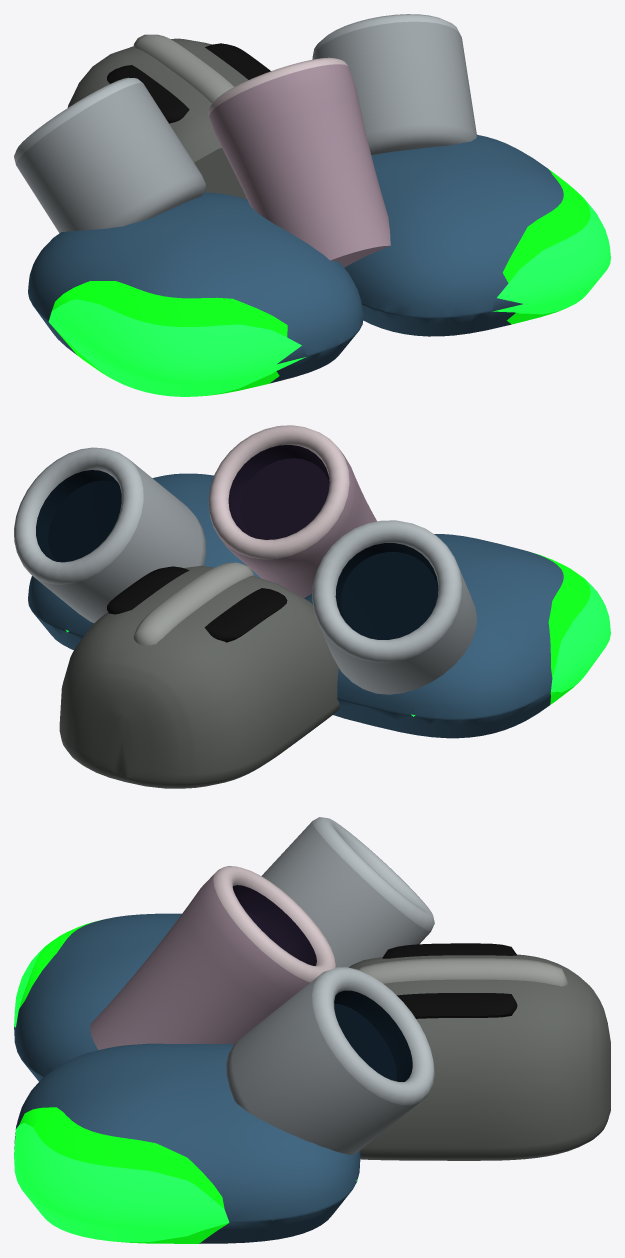
Rendered from pod_turret_195.glb.
The picture shows the model from 3 angles, top to bottom: view 1: azimuth 30°, elevation 25°; view 2: azimuth 150°, elevation 25°; view 3: azimuth 270°, elevation 25°; orthographic projection. The views are drawn at different scales.
Parts seen in each view (by area): view 1: shell, shell_r, nozzle, cup, cup_r, cowl, rib, slot-1, slot1; view 2: cowl, shell, cup, cup_r, nozzle, shell_r, rib, slot-1, slot1; view 3: shell_r, cowl, cup_r, nozzle, shell, cup, rib, slot1, slot-1.
Part boxes in pixels (<box>): shell: <box>28,192,363,396</box>; shell_r: <box>344,134,610,336</box>; nozzle: <box>208,57,390,267</box>; cup: <box>14,77,206,233</box>; cup_r: <box>312,14,476,154</box>; cowl: <box>67,38,248,199</box>; rib: <box>133,34,234,103</box>; slot-1: <box>107,65,189,123</box>; slot1: <box>205,43,270,79</box>; cowl: <box>59,565,339,788</box>; shell: <box>304,534,610,738</box>; cup: <box>312,520,476,694</box>; cup_r: <box>14,447,206,622</box>; nozzle: <box>208,425,377,598</box>; shell_r: <box>28,473,260,649</box>; rib: <box>133,562,254,645</box>; slot-1: <box>204,588,287,642</box>; slot1: <box>107,566,189,614</box>; shell_r: <box>14,1043,360,1243</box>; cowl: <box>348,954,610,1160</box>; cup_r: <box>226,967,434,1154</box>; nozzle: <box>90,866,336,1050</box>; shell: <box>14,913,181,1081</box>; cup: <box>261,817,434,967</box>; rib: <box>358,958,568,986</box>; slot1: <box>397,993,517,1018</box>; slot-1: <box>382,943,516,958</box>.
Bounding box in the file's own units: 23.4 × 10.4 × 22.4.
